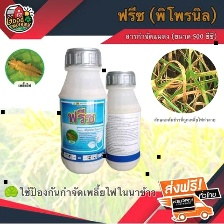insecticide: (56, 43, 108, 177), (99, 67, 143, 173)
